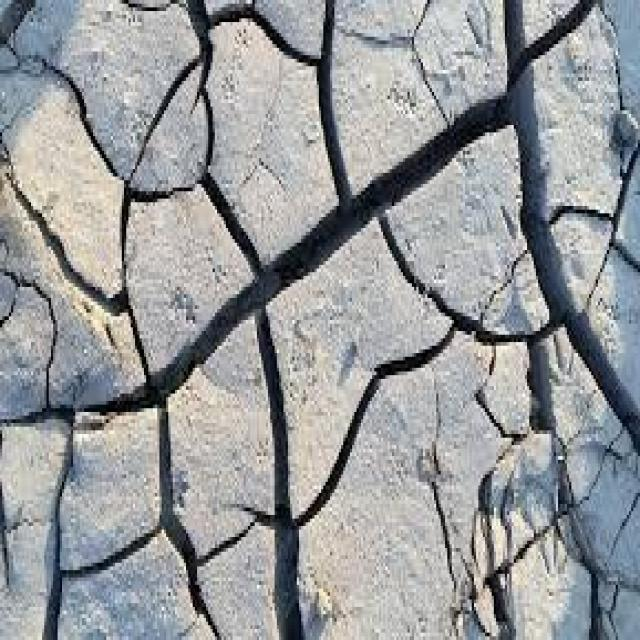Crack: (10, 20, 632, 631)
